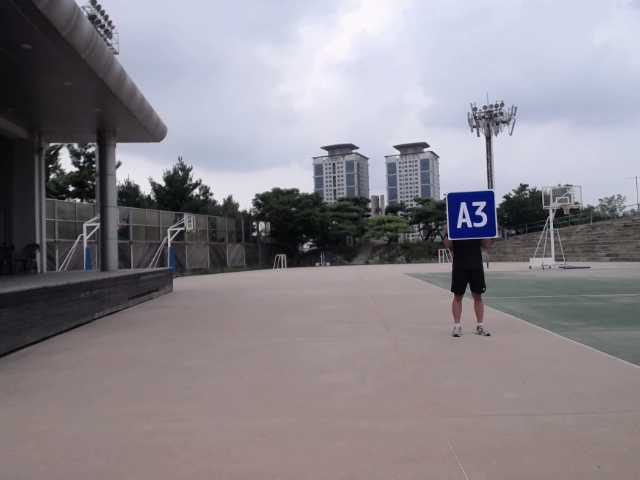delivery_a3: (446, 190, 497, 240)
